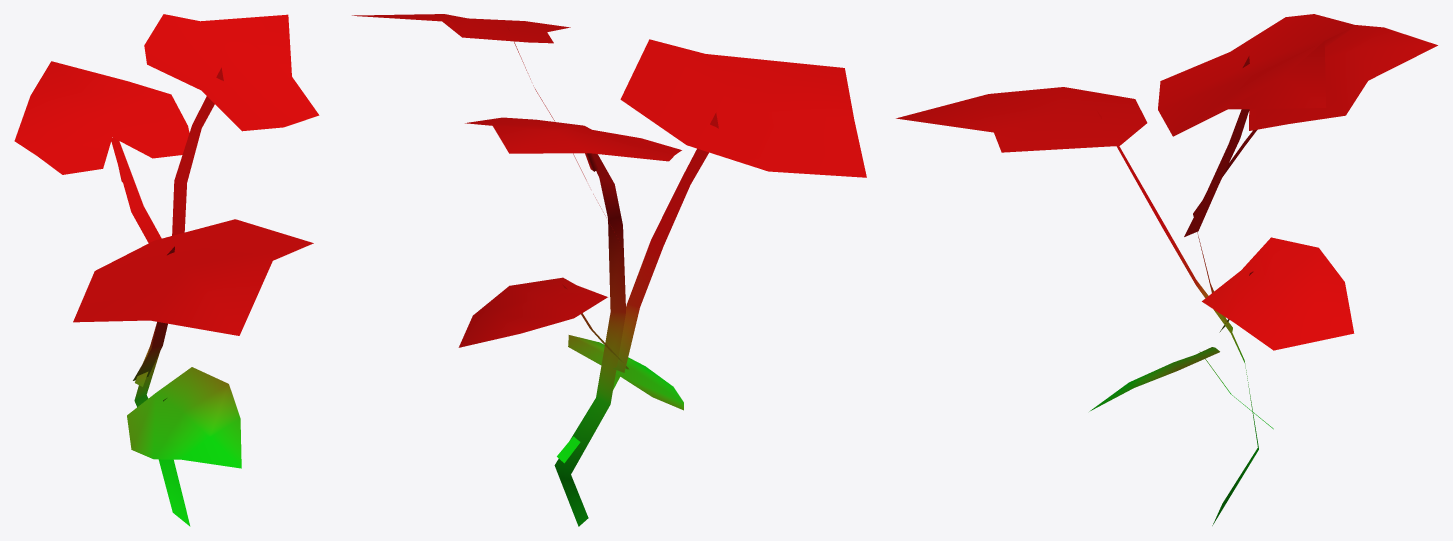
Rendered from Var9_LOD2.fbx.
3 renders of one model, left to right at view 1: azimuth 30°, elevation 25°; view 2: azimuth 150°, elevation 25°; view 3: azimuth 270°, elevation 25°, orthographic. The views are drawn at different scales.
Visible parts, largest first — view 1: _bcm9_Var9_LOD2; view 2: _bcm9_Var9_LOD2; view 3: _bcm9_Var9_LOD2.
Boxes of the visible parts, <box> form: _bcm9_Var9_LOD2: <box>14,14,319,526</box>; _bcm9_Var9_LOD2: <box>352,14,866,526</box>; _bcm9_Var9_LOD2: <box>896,14,1437,525</box>.
Size of the model in its own units: 14.33 by 18.96 by 17.88.
